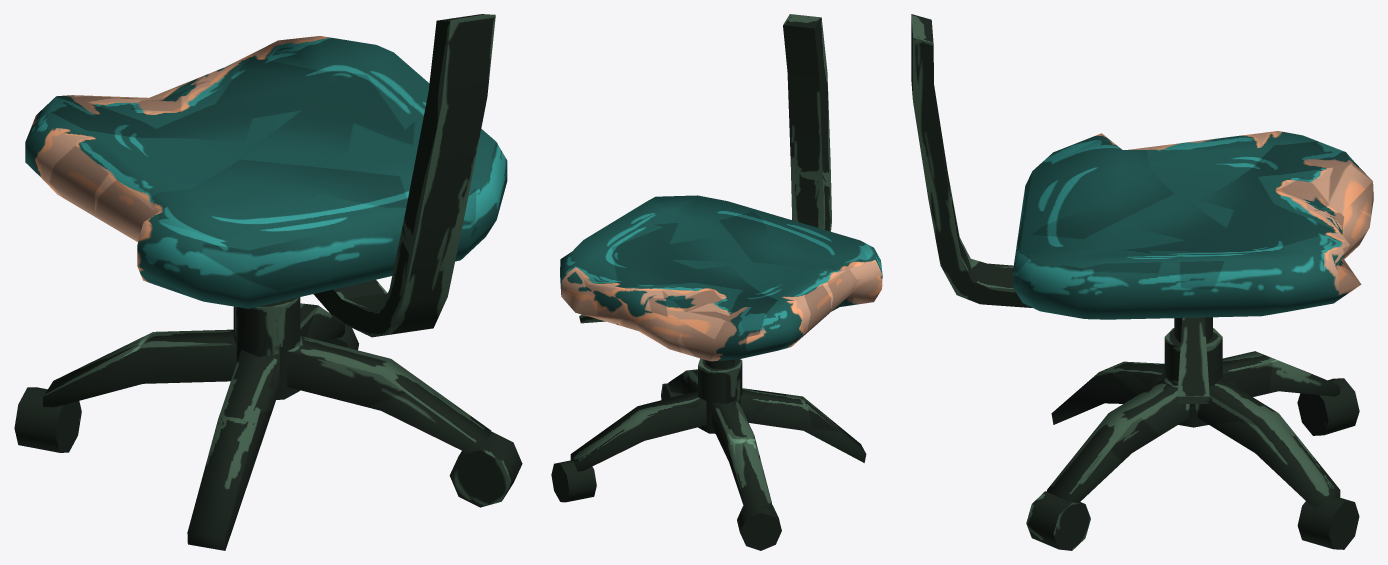
The model's file is Office_Chair_1_B.fbx.
The picture shows the model from 3 angles, left to right: view 1: azimuth 30°, elevation 25°; view 2: azimuth 150°, elevation 25°; view 3: azimuth 270°, elevation 25°; orthographic projection. The views are drawn at different scales.
Parts seen in each view (by area): view 1: Office_Chair_1_B; view 2: Office_Chair_1_B; view 3: Office_Chair_1_B.
Part boxes in pixels (bbox=[...]): Office_Chair_1_B: bbox=[14, 14, 522, 550]; Office_Chair_1_B: bbox=[551, 14, 882, 550]; Office_Chair_1_B: bbox=[911, 14, 1373, 550].
Bounding box in the file's own units: 0.6355 × 0.8922 × 0.7783.
